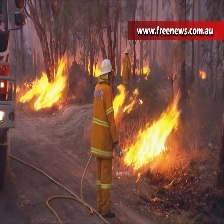fire: (122, 89, 183, 174), (14, 54, 70, 111), (86, 54, 102, 77), (197, 68, 208, 78)
